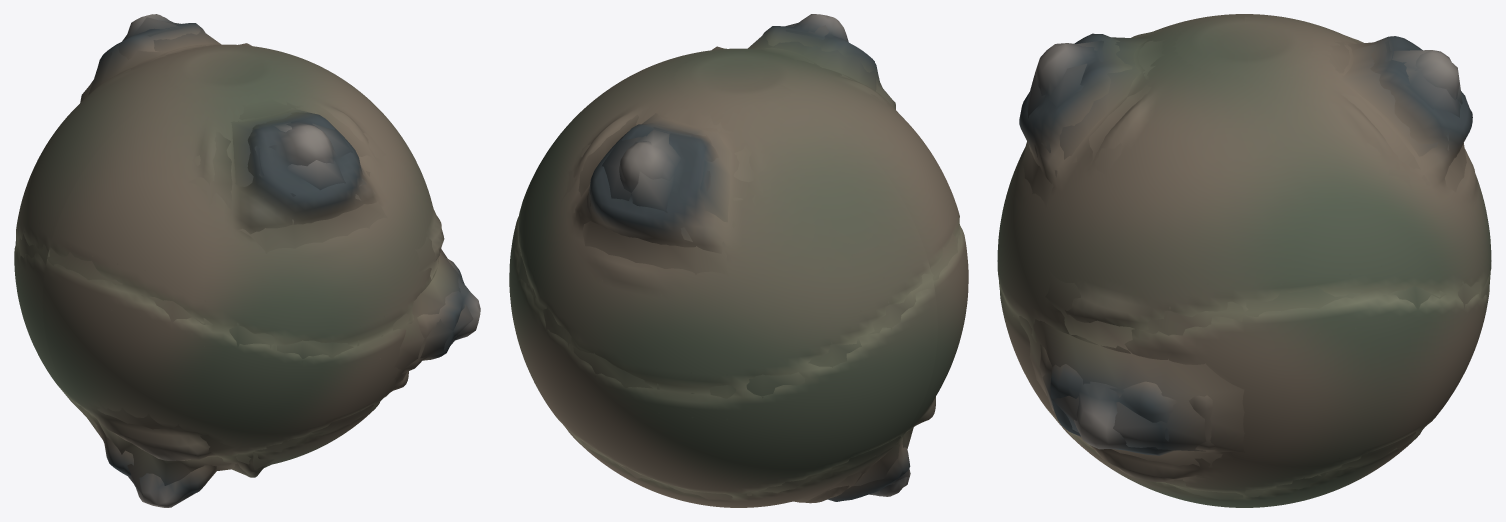
Rendered from project-foundry.glb.
3 renders of one model, left to right at view 1: azimuth 30°, elevation 25°; view 2: azimuth 150°, elevation 25°; view 3: azimuth 270°, elevation 25°, orthographic. The views are drawn at different scales.
Parts seen in each view (by area): view 1: Sculpted_project-foundry_Full, Sculpted_project-foundry_Distant; view 2: Sculpted_project-foundry_Full, Sculpted_project-foundry_Distant; view 3: Sculpted_project-foundry_Full, Sculpted_project-foundry_Distant.
Part boxes in pixels (left/top/right/bottom): Sculpted_project-foundry_Full: left=14, top=14, right=480, bottom=507; Sculpted_project-foundry_Distant: left=15, top=17, right=473, bottom=505; Sculpted_project-foundry_Full: left=509, top=14, right=968, bottom=507; Sculpted_project-foundry_Distant: left=518, top=15, right=966, bottom=506; Sculpted_project-foundry_Full: left=997, top=14, right=1491, bottom=507; Sculpted_project-foundry_Distant: left=999, top=15, right=1490, bottom=499.
Size of the model in its own units: 295 by 292 by 288.
